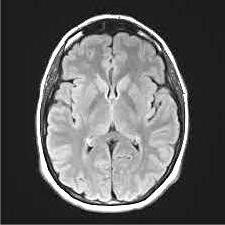Normal_Brain: (30, 1, 220, 215)
